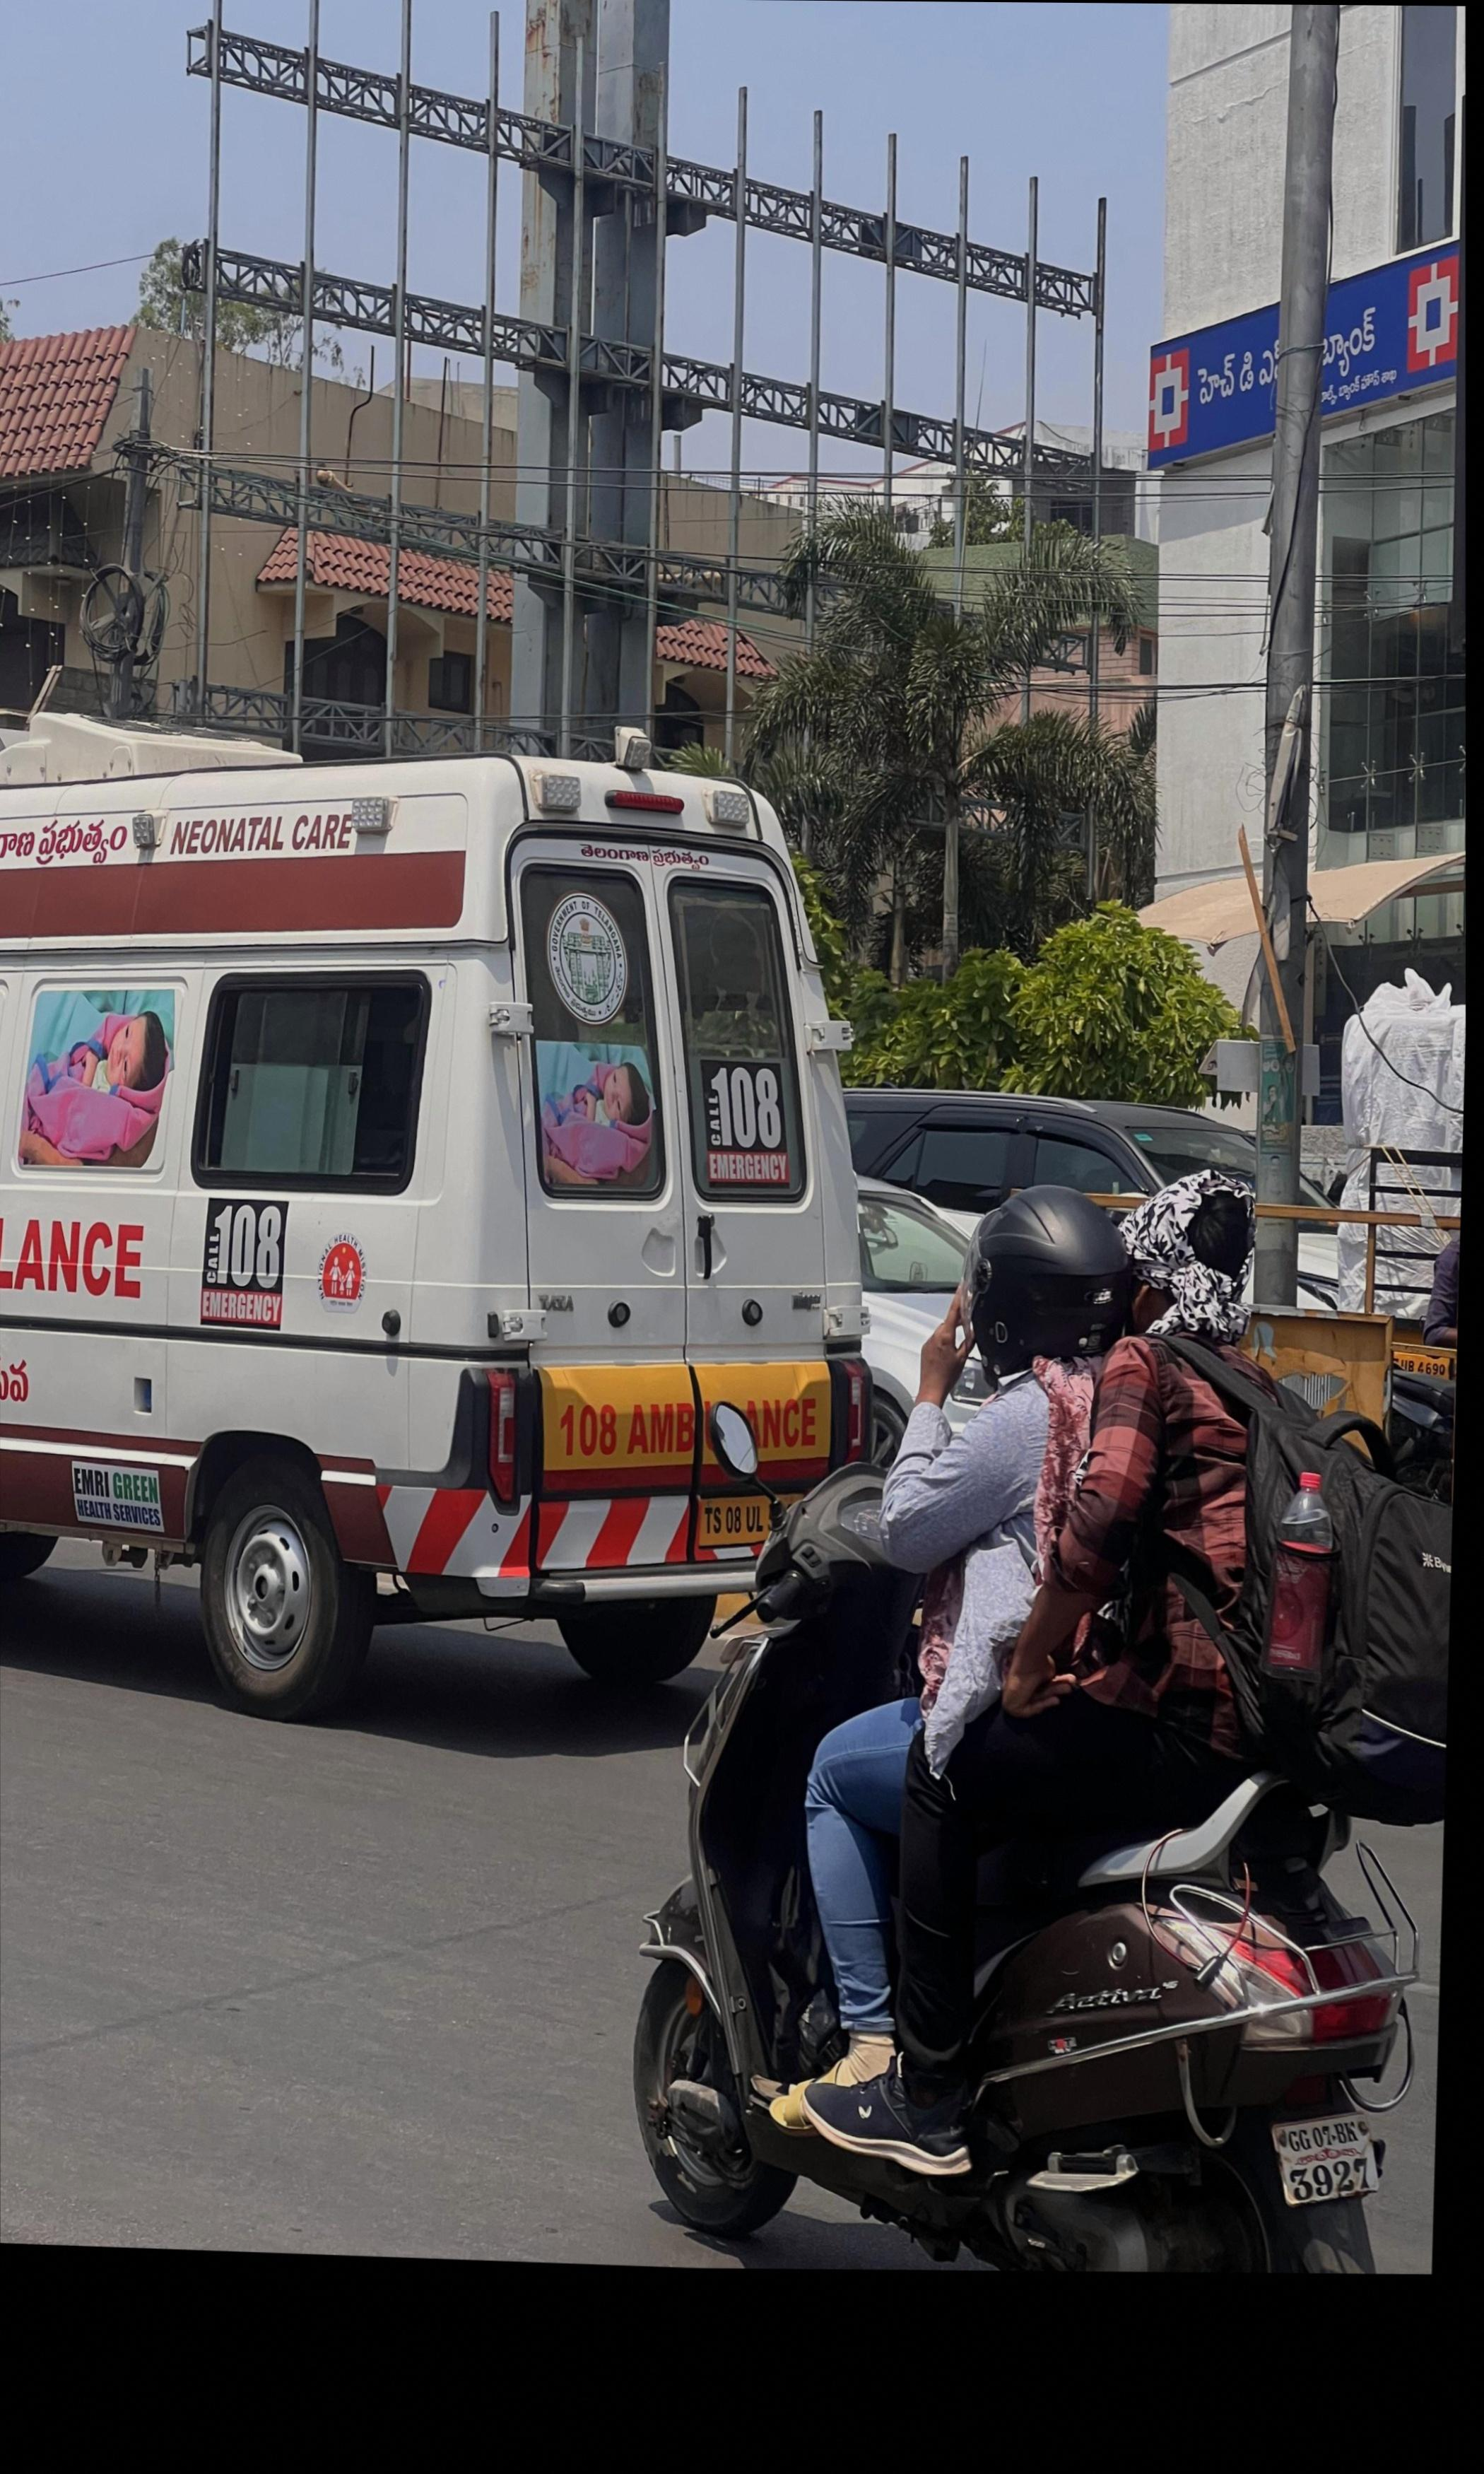ambulance: (0, 739, 839, 1725)
